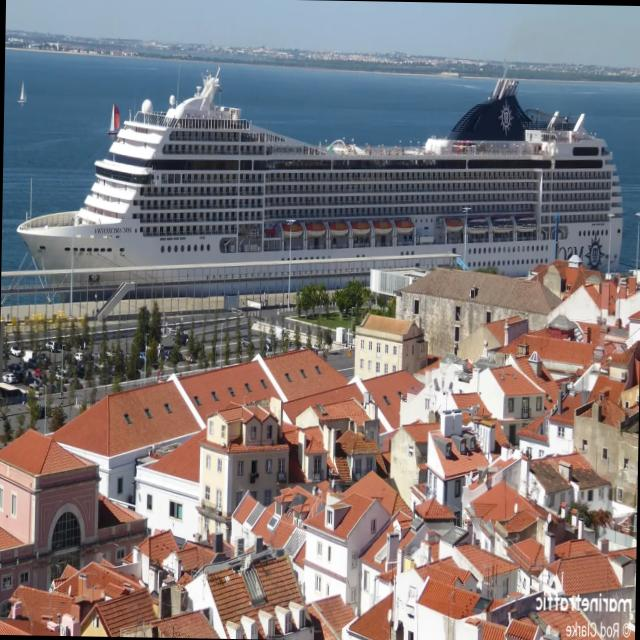Cruise: (17, 70, 621, 273)
